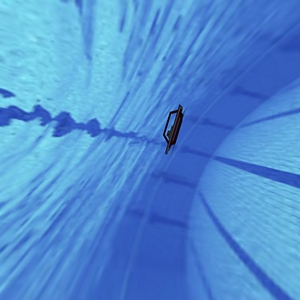submarine: (152, 88, 198, 174)
